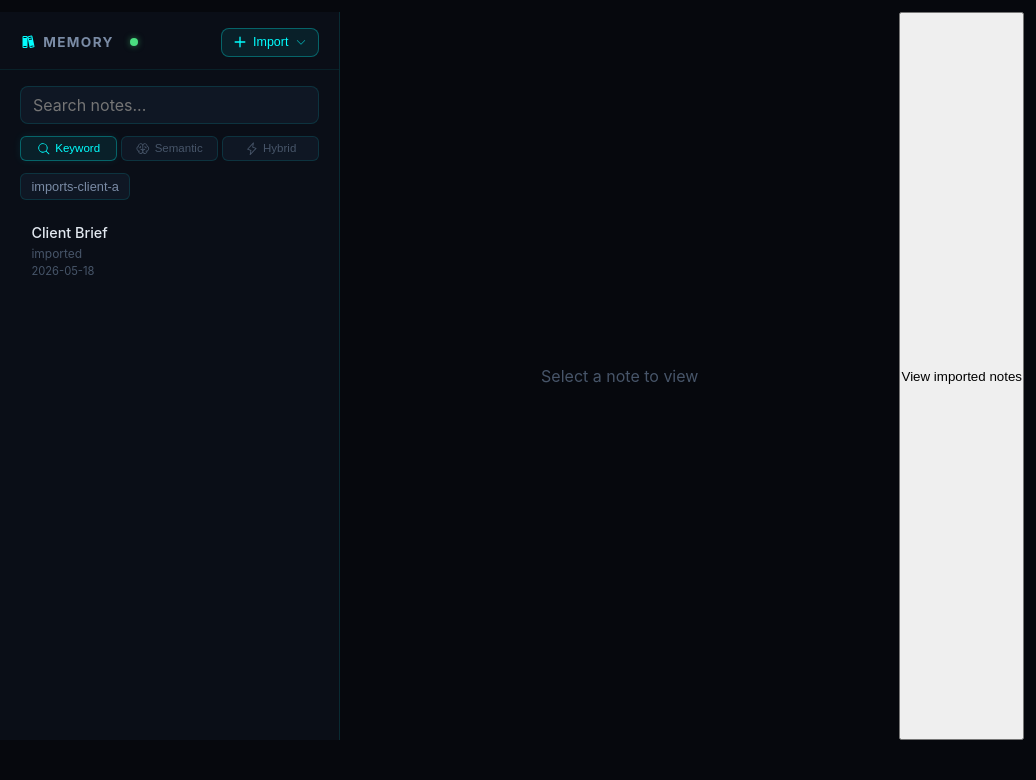
pages/memory.vue › opens imported notes from folder import completion
Click the button with class "test-view-imported-notes". click: click(962, 376)
box: [900, 12, 1024, 740]
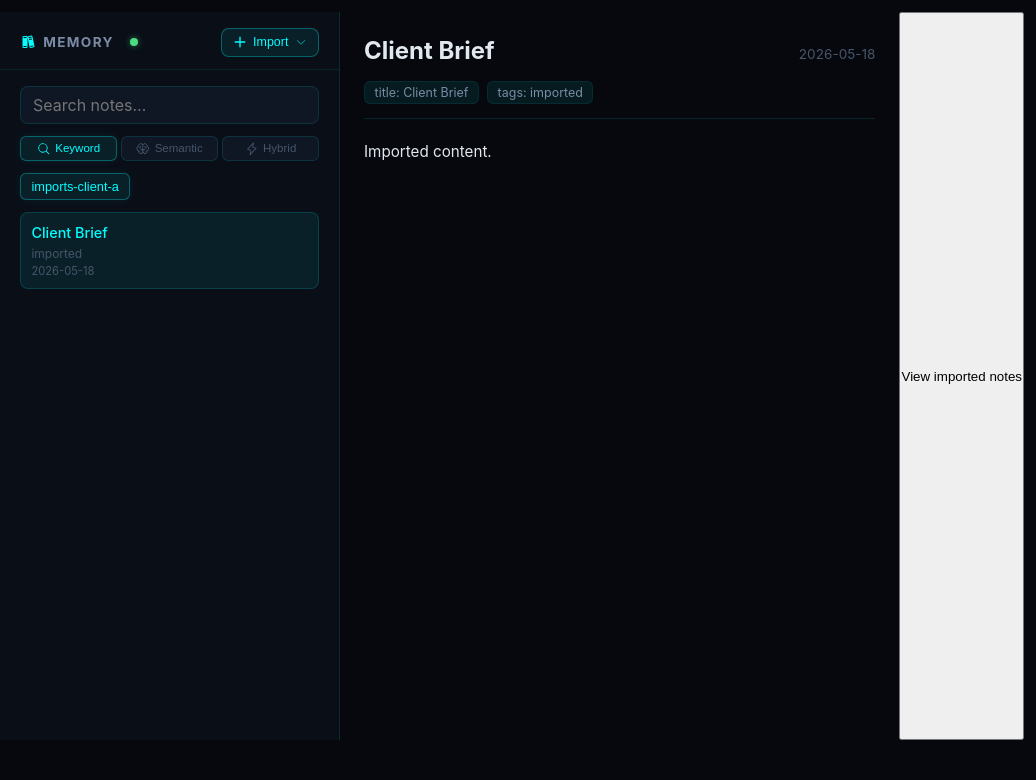
Check: the list item with class "note-list__item--active" shows "Client Brief", box [31, 224, 108, 241]
Check: the heading with class "note-viewer__title" reads "Client Brief", box [364, 36, 495, 65]
